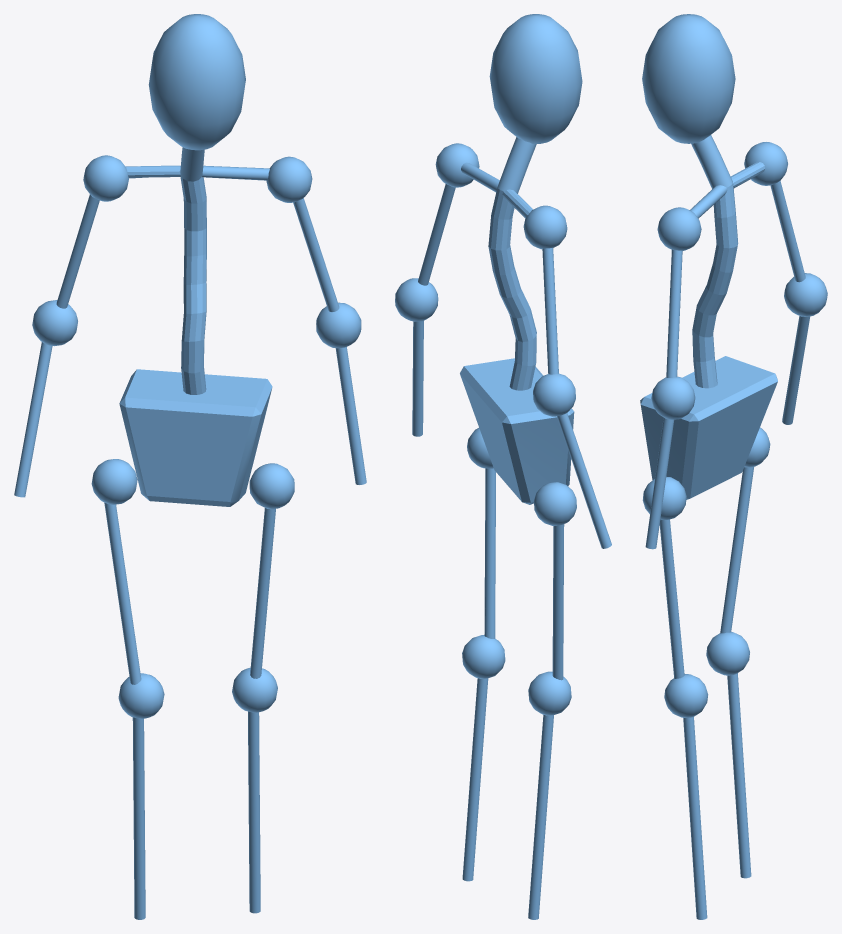
The model's file is M_ManGesture.FBX.
3 views of the same model, side by side, from view 1: azimuth 30°, elevation 25°; view 2: azimuth 150°, elevation 25°; view 3: azimuth 270°, elevation 25° (orthographic). The views are drawn at different scales.
Parts seen in each view (by area): view 1: Sphere001; view 2: Sphere001; view 3: Sphere001.
Part boxes in pixels (x1=…): Sphere001: x1=14, y1=14, x2=366, y2=919; Sphere001: x1=395, y1=14, x2=611, y2=919; Sphere001: x1=640, y1=14, x2=827, y2=919.
Bounding box in the file's own units: 56.53 × 174 × 34.01.
